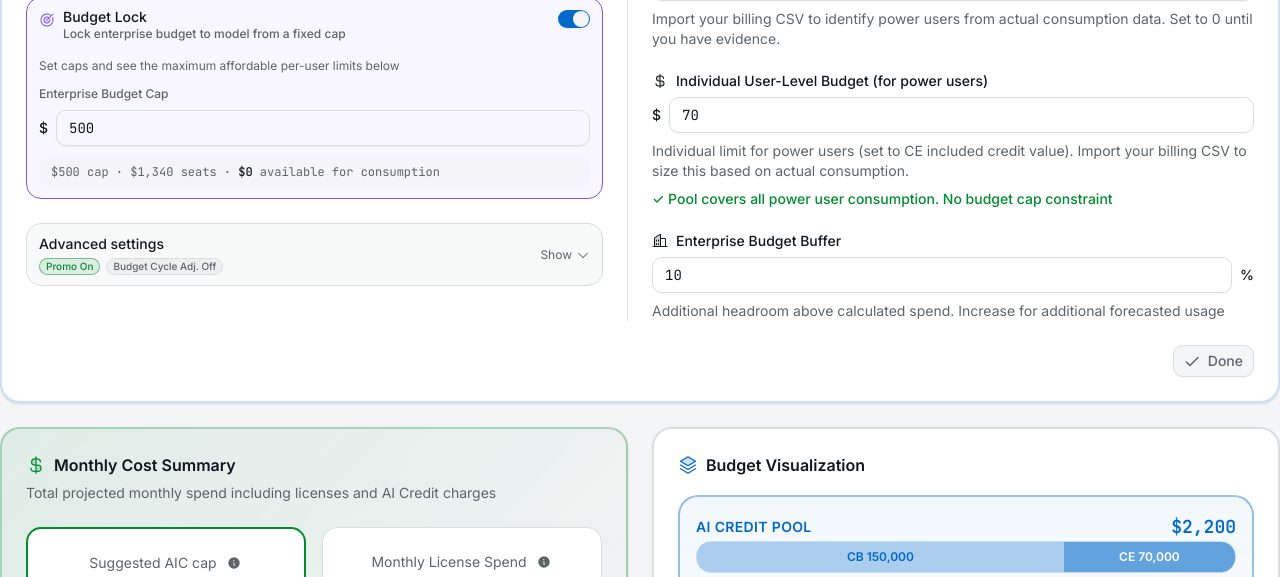
Test case: Tab smoke tests › promo toggle resets ULB and power budget to match pricing period
(page scrolled)
Expected: the field labelled "Individual User-Level Budget (for power users)" holds "70", [669, 97, 1254, 133]
Click the button "Advanced settings Promo On Budget Cycle Adj. Off Show". click: point(102, 244)
box: [26, 223, 603, 286]
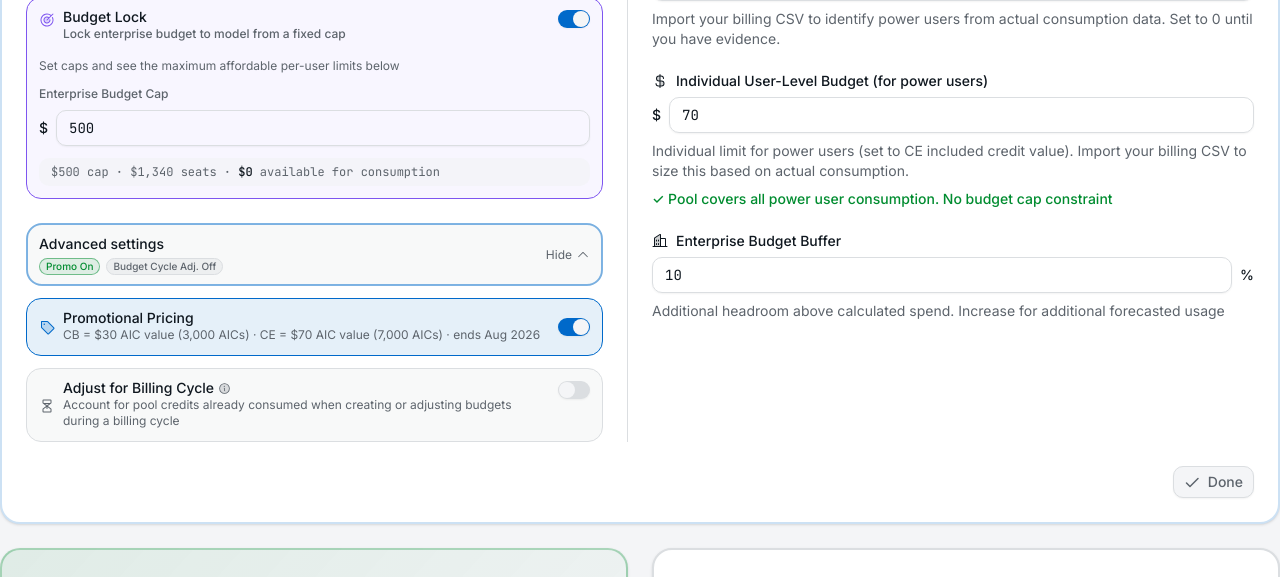
Click the switch in the row of "Promotional Pricing". click: point(574, 327)
box: [558, 318, 590, 336]
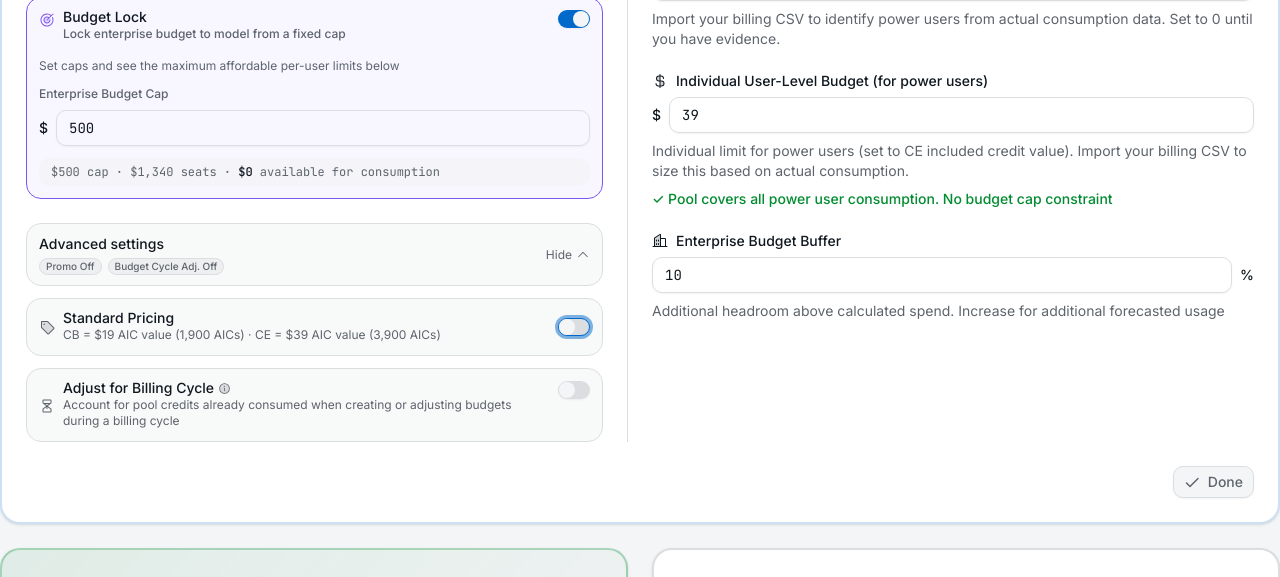
Expected: the field labelled "Individual User-Level Budget (for power users)" holds "39", [669, 97, 1254, 133]
Click the switch in the row of "Standard Pricing". click: point(574, 327)
box: [558, 318, 590, 336]
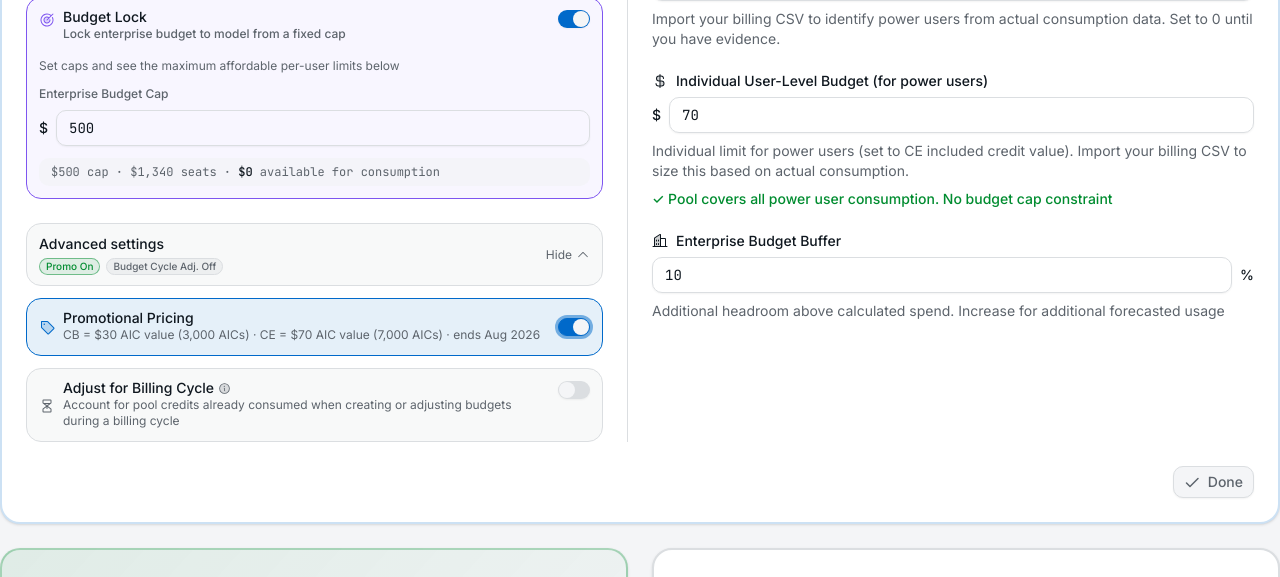
Expected: the field labelled "Individual User-Level Budget (for power users)" holds "70", [669, 97, 1254, 133]
